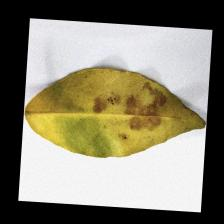black spot: (92, 66, 168, 131)
